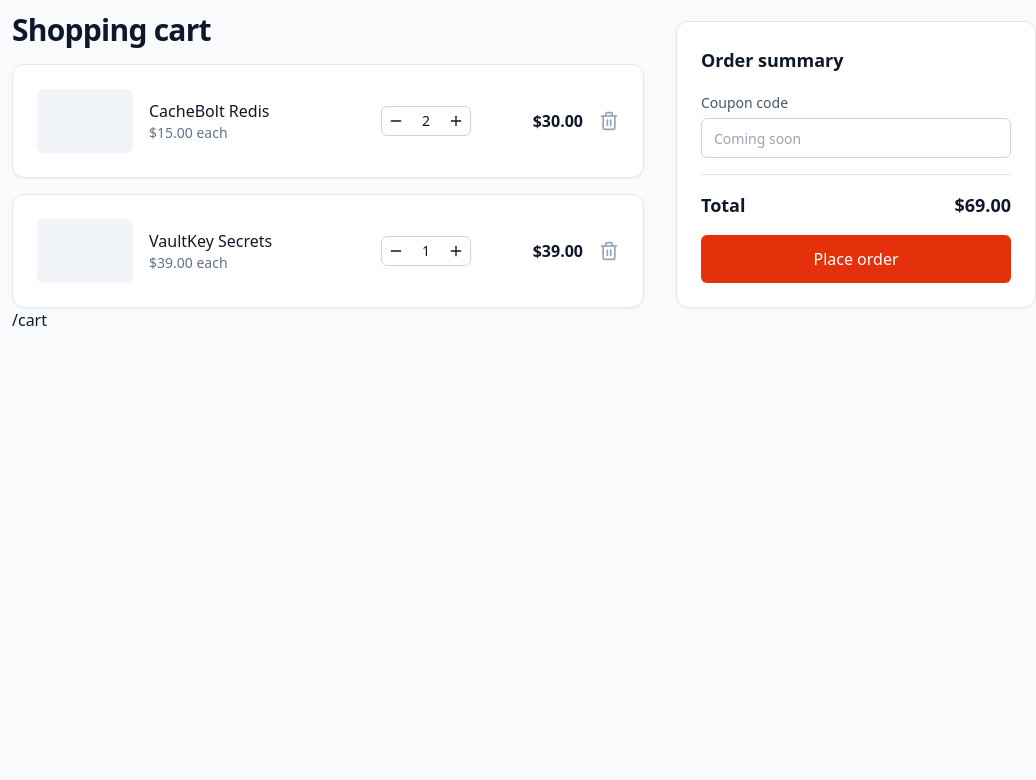
Cart page › places an order, clears the cart and navigates to Orders
The width and height of the screenshot is (1036, 780).
Type "  SAVE10 " into the field labelled "Coupon code" at (856, 138), box top-left (701, 118), bottom-right (1011, 158)
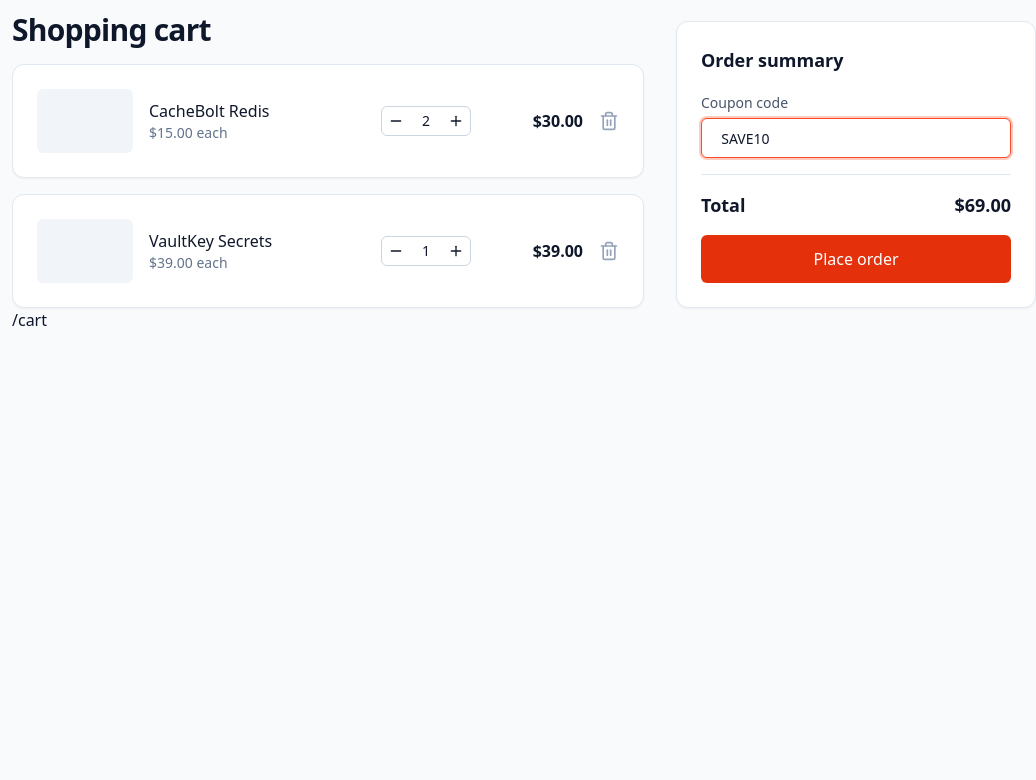
Click the button "Place order" at (856, 259), box top-left (701, 235), bottom-right (1011, 283)
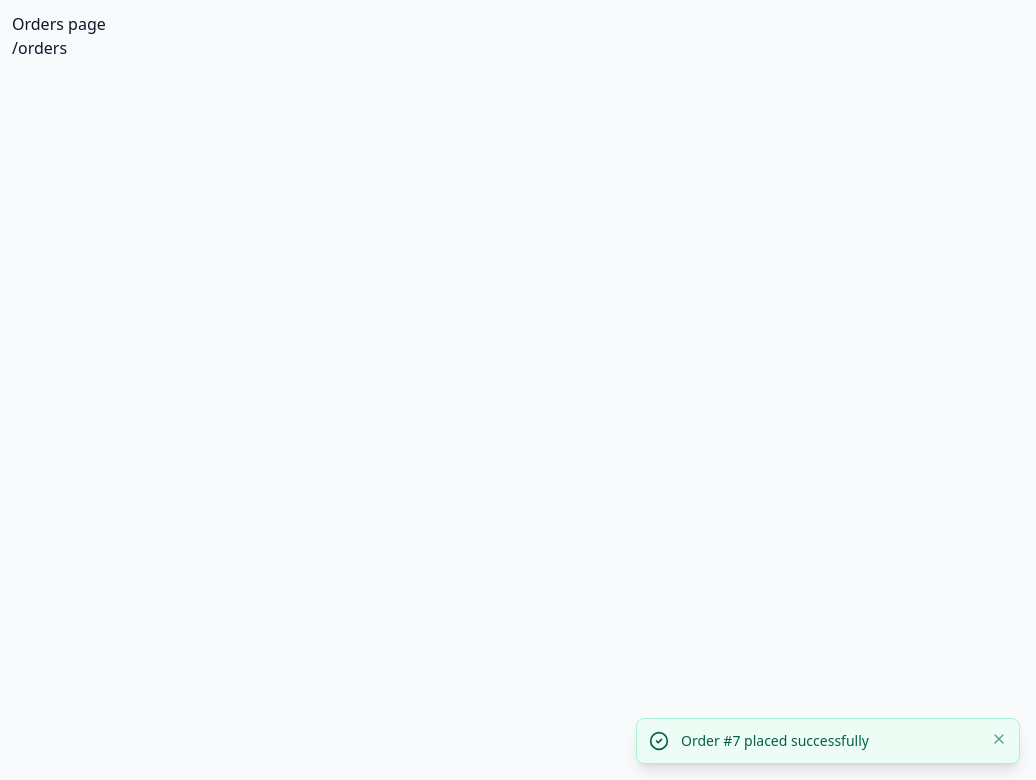
Check: the text "Orders page" is shown, box top-left (12, 13), bottom-right (106, 35)
Check: the text "Order #7 placed successfully" is shown, box top-left (681, 731), bottom-right (869, 750)
